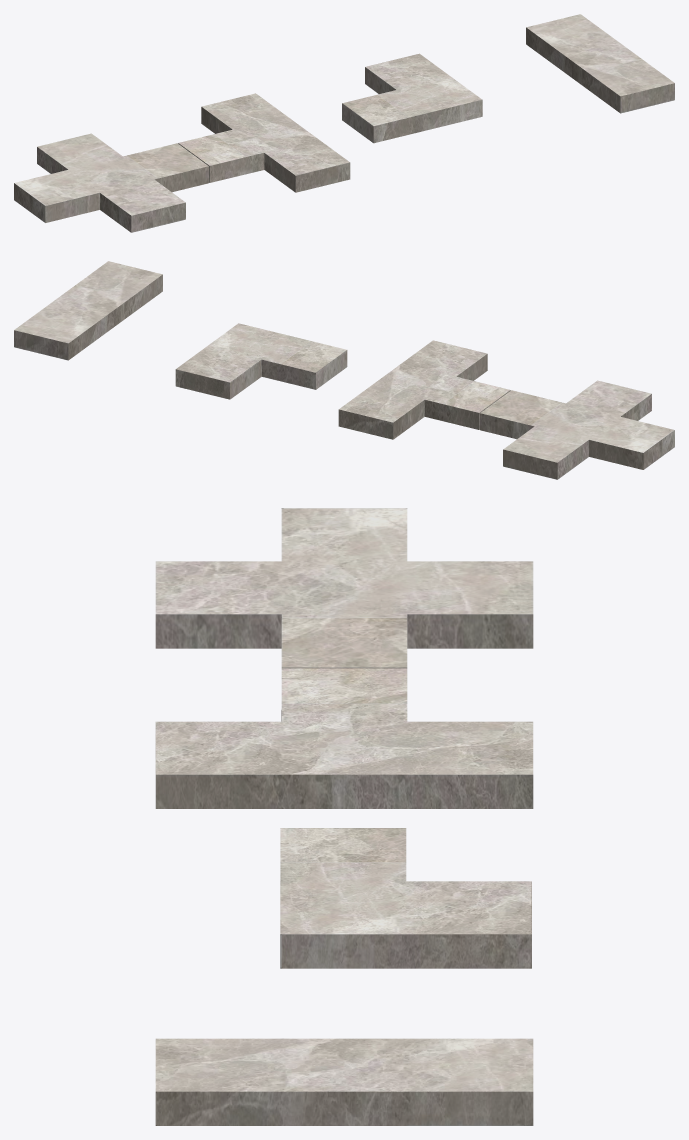
File: road.fbx
3 renders of one model, top to bottom at view 1: azimuth 30°, elevation 25°; view 2: azimuth 150°, elevation 25°; view 3: azimuth 270°, elevation 25°, orthographic. The views are drawn at different scales.
Parts seen in each view (by area): view 1: 立方体.006, 立方体.005, 立方体.004, 立方体.003; view 2: 立方体.006, 立方体.005, 立方体.004, 立方体.003; view 3: 立方体.006, 立方体.005, 立方体.003, 立方体.004.
Part boxes in pixels (bbox=[...]): 立方体.006: bbox=[14, 133, 208, 232]; 立方体.005: bbox=[178, 93, 350, 192]; 立方体.004: bbox=[342, 53, 482, 143]; 立方体.003: bbox=[526, 14, 674, 113]; 立方体.006: bbox=[480, 380, 674, 479]; 立方体.005: bbox=[338, 340, 510, 439]; 立方体.004: bbox=[175, 323, 347, 399]; 立方体.003: bbox=[14, 261, 162, 360]; 立方体.006: bbox=[155, 508, 533, 668]; 立方体.005: bbox=[155, 668, 533, 808]; 立方体.003: bbox=[155, 1038, 533, 1125]; 立方体.004: bbox=[280, 828, 531, 968].
Bounding box in the file's own units: 366 × 10 × 100.
4 materials, 4 textured.
